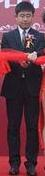boots: (8, 165, 18, 174), (26, 168, 36, 175)
